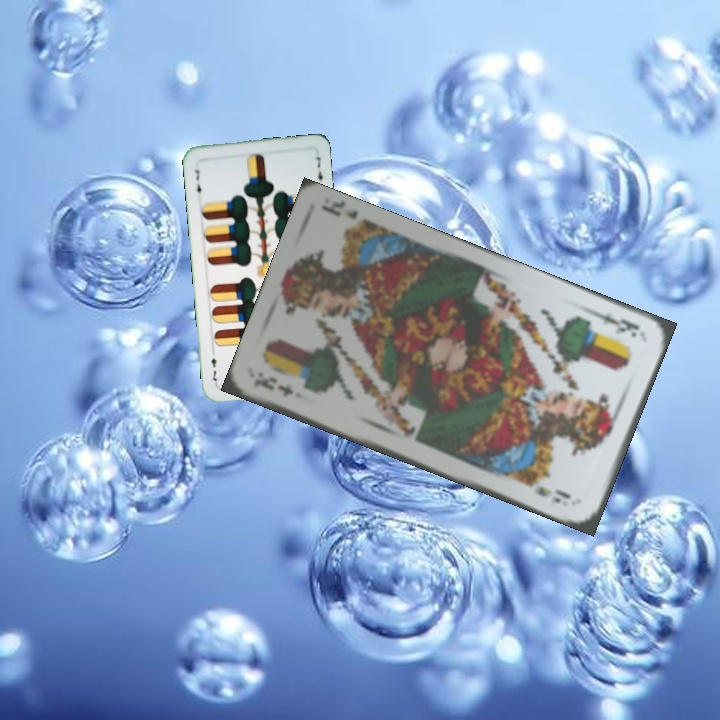E7: (191, 165, 204, 199)
EK: (589, 306, 642, 340), (249, 373, 297, 399)
